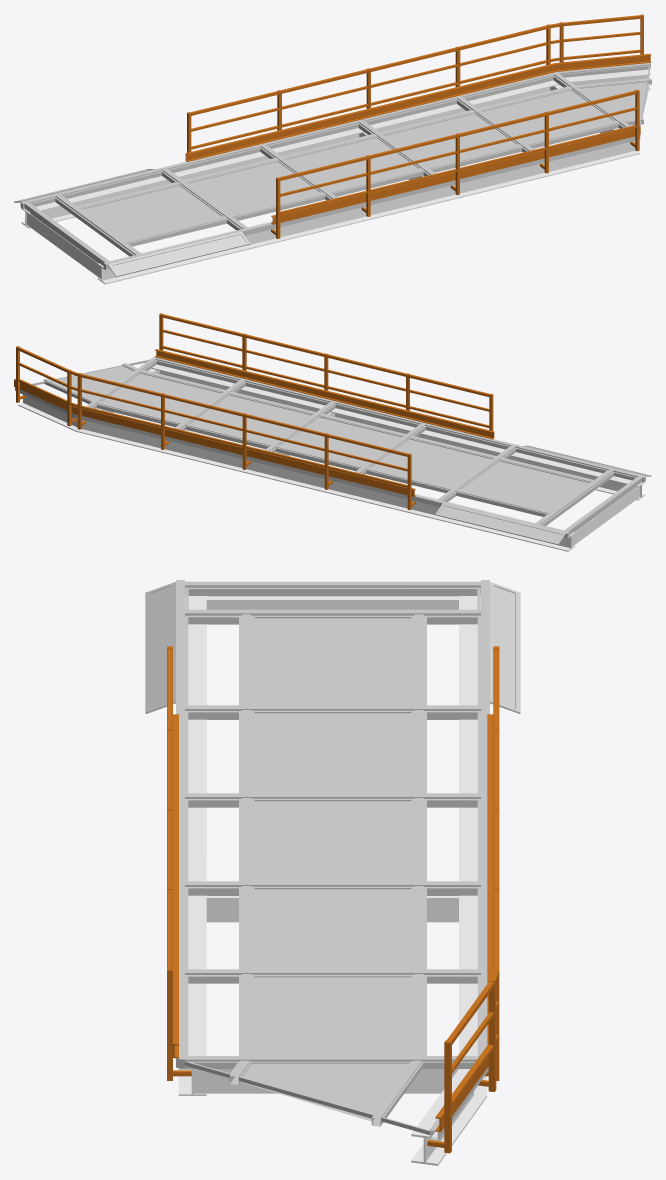
The model's file is SM_H_Building_Tide_Ventilate_01e_ATLAS.fbx.
3 views of the same model, one above another, from view 1: azimuth 30°, elevation 25°; view 2: azimuth 150°, elevation 25°; view 3: azimuth 270°, elevation 25° (orthographic). The views are drawn at different scales.
Parts seen in each view (by area): view 1: SM_H_Building_Tide_Ventilate_01e_ATLAS; view 2: SM_H_Building_Tide_Ventilate_01e_ATLAS; view 3: SM_H_Building_Tide_Ventilate_01e_ATLAS.
Part boxes in pixels (<box>): SM_H_Building_Tide_Ventilate_01e_ATLAS: <box>14,14,651,284</box>; SM_H_Building_Tide_Ventilate_01e_ATLAS: <box>14,313,651,551</box>; SM_H_Building_Tide_Ventilate_01e_ATLAS: <box>145,580,520,1165</box>.
Bounding box in the file's own units: 1213 × 348 × 125.
